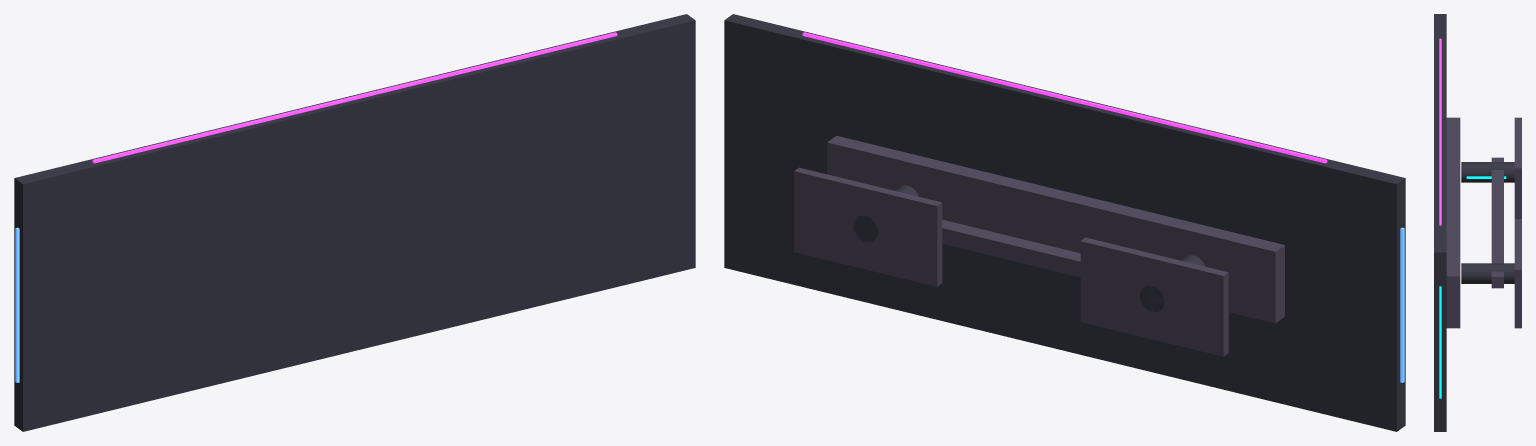
File: coffee_table.glb
3 renders of one model, left to right at view 1: azimuth 30°, elevation 25°; view 2: azimuth 150°, elevation 25°; view 3: azimuth 270°, elevation 25°, orthographic. The views are drawn at different scales.
Visible parts, largest first — view 1: coffee_table_top_shell, rear_top_trim, left_top_trim; view 2: coffee_table_top_shell, under_top_frame, left_base_plinth, right_base_plinth, lower_stretcher, rear_top_trim, left_top_trim, pedestal_left, pedestal_right; view 3: coffee_table_top_shell, under_top_frame, lower_stretcher, pedestal_right, pedestal_left, right_base_plinth, left_base_plinth, rear_top_trim, right_top_trim.
Part boxes in pixels (x1,y1,x2,y2): coffee_table_top_shell: (14,14,695,431); rear_top_trim: (92,32,617,163); left_top_trim: (15,227,19,382); coffee_table_top_shell: (724,14,1405,431); under_top_frame: (827,135,1284,323); left_base_plinth: (1080,237,1228,356); right_base_plinth: (794,167,942,286); lower_stretcher: (942,219,1080,277); rear_top_trim: (802,32,1327,163); left_top_trim: (1400,227,1404,382); pedestal_left: (1139,255,1205,312); pedestal_right: (853,185,918,242); coffee_table_top_shell: (1434,14,1446,431); under_top_frame: (1446,117,1460,328); lower_stretcher: (1491,157,1503,288); pedestal_right: (1461,263,1514,283); pedestal_left: (1461,162,1514,182); right_base_plinth: (1514,219,1521,328); left_base_plinth: (1514,117,1521,218); rear_top_trim: (1439,38,1441,225); right_top_trim: (1439,286,1441,398).
Size of the model in its own units: 5.44 by 1.94 by 0.84.
